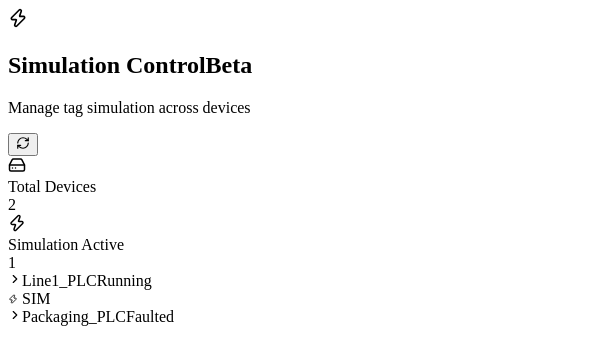
Test: SimulationView › explains that simulation is off for a device without it enabled
Click the text "Packaging_PLC": (74, 316) [22,308,126,325]
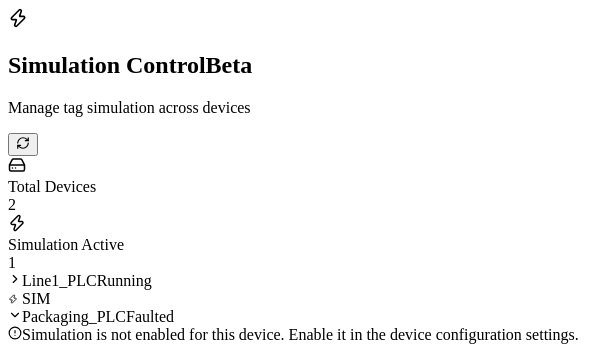
Result: the text "Simulation is not enabled for this device. Enable it in the device configuration settings." is shown at [22,326,579,343]
